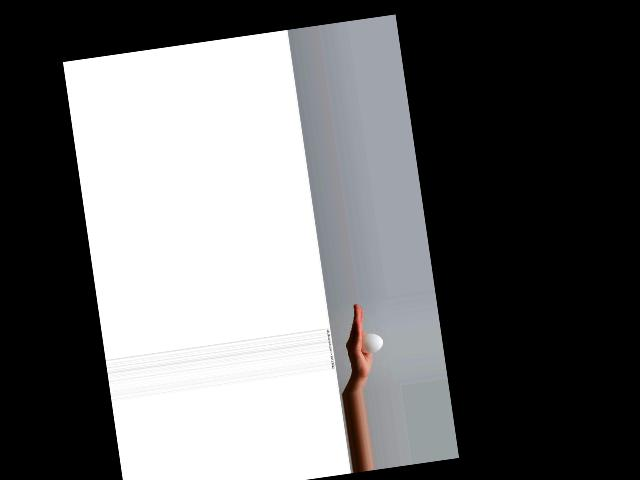egg: (358, 332, 383, 353)
